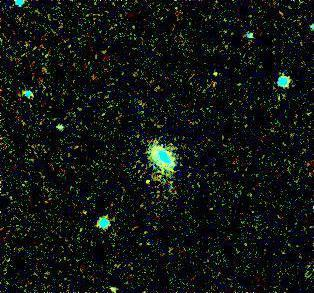star: (134, 169, 164, 199)
